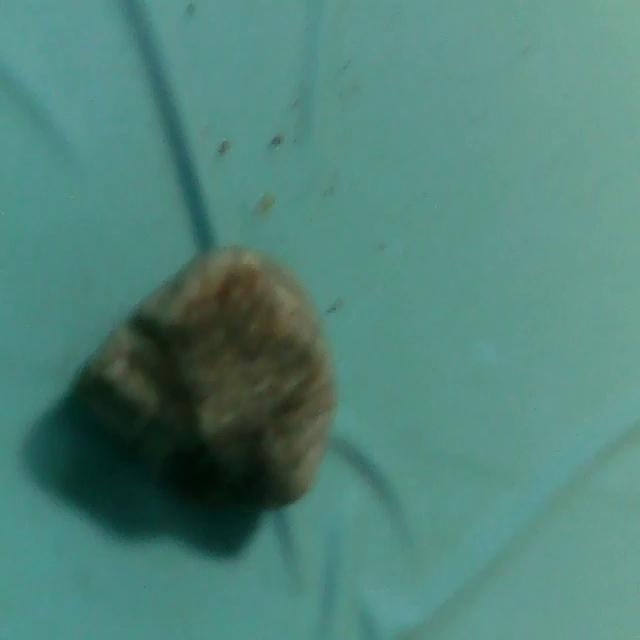rock: (64, 236, 352, 524)
